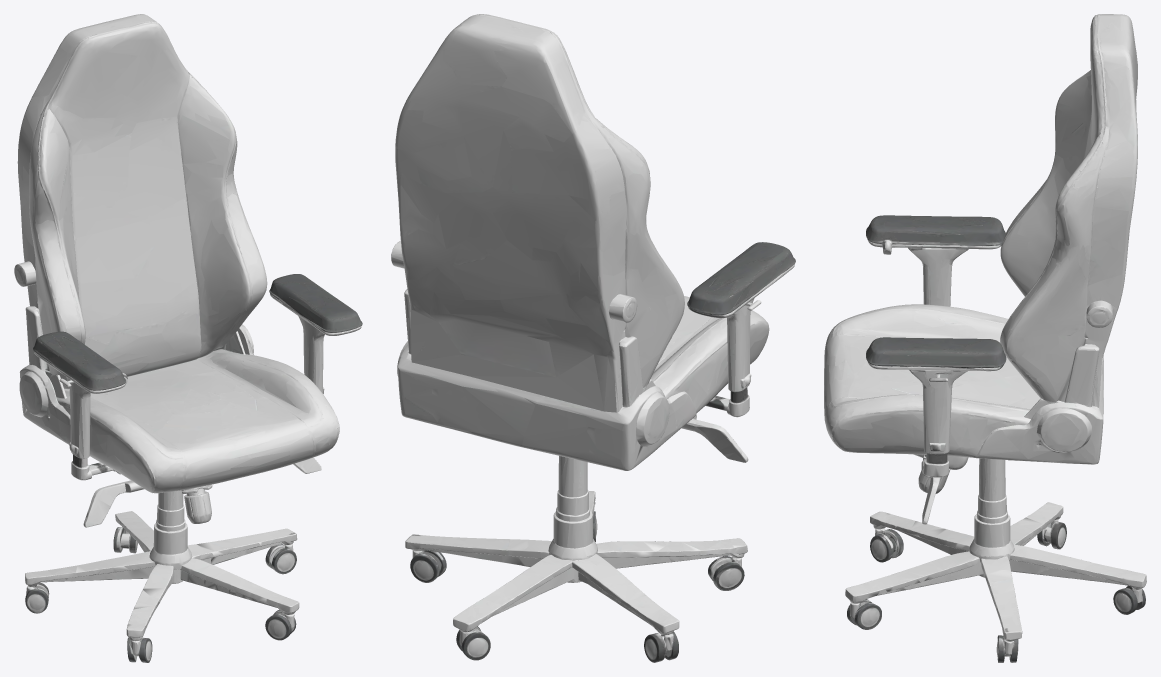
File: secretlab-co-products-titan-evo-24-r-nn-0107-954114.glb
The picture shows the model from 3 angles, left to right: view 1: azimuth 30°, elevation 25°; view 2: azimuth 150°, elevation 25°; view 3: azimuth 270°, elevation 25°; orthographic projection. The views are drawn at different scales.
Visible parts, largest first — view 1: Mesh_0; view 2: Mesh_0; view 3: Mesh_0.
Part boxes in pixels (left/top/right/bottom): Mesh_0: left=14, top=14, right=362, bottom=662; Mesh_0: left=391, top=14, right=795, bottom=662; Mesh_0: left=824, top=14, right=1146, bottom=662.
Bounding box in the file's own units: 1.01 × 1.9 × 0.9743.
1 material, 1 textured.
